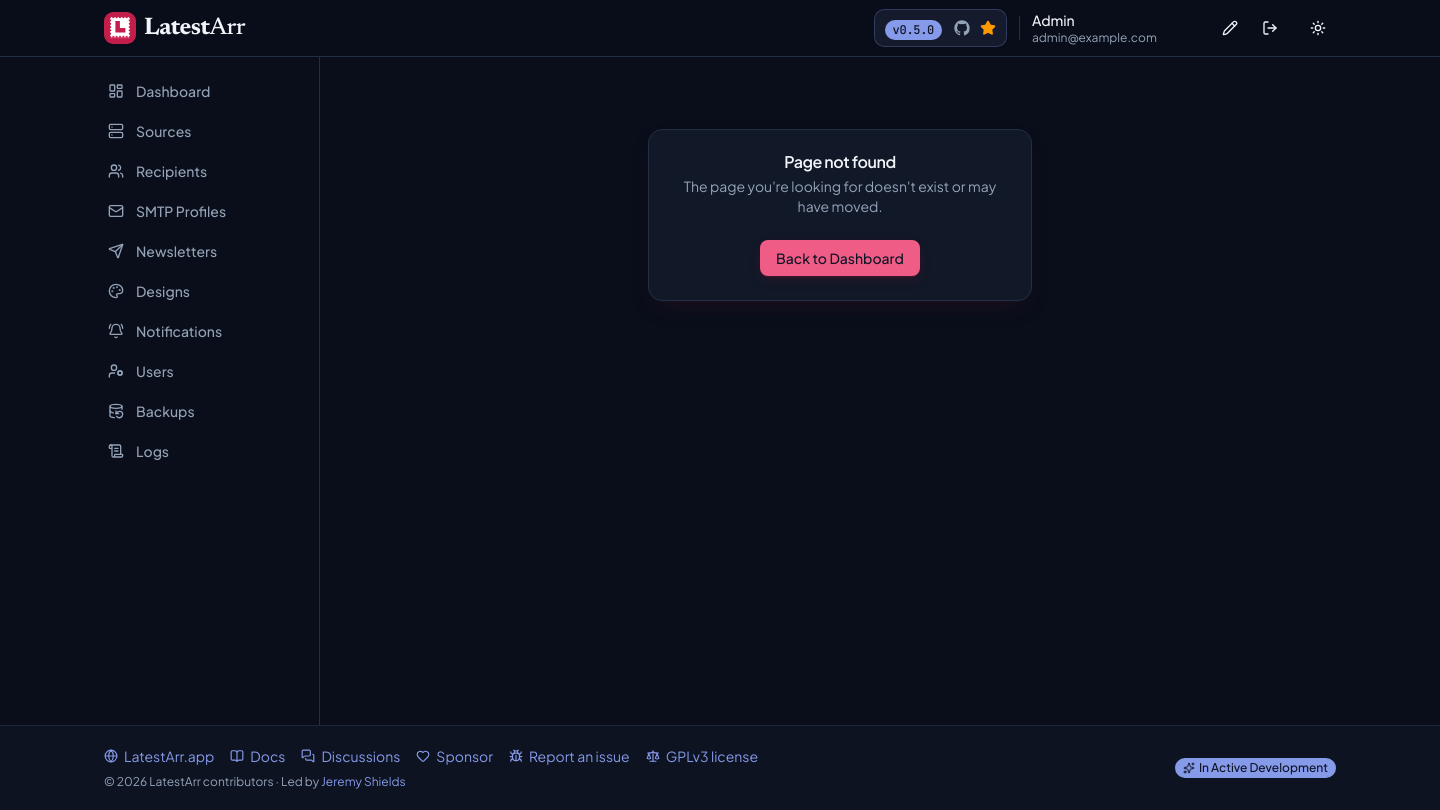
Test: App routing › navigates back to the Dashboard from the not-found page
Check: the heading "Page not found" is shown, box [784, 154, 896, 170]
Click the link "Back to Dashboard" at (840, 258), box [760, 240, 920, 276]
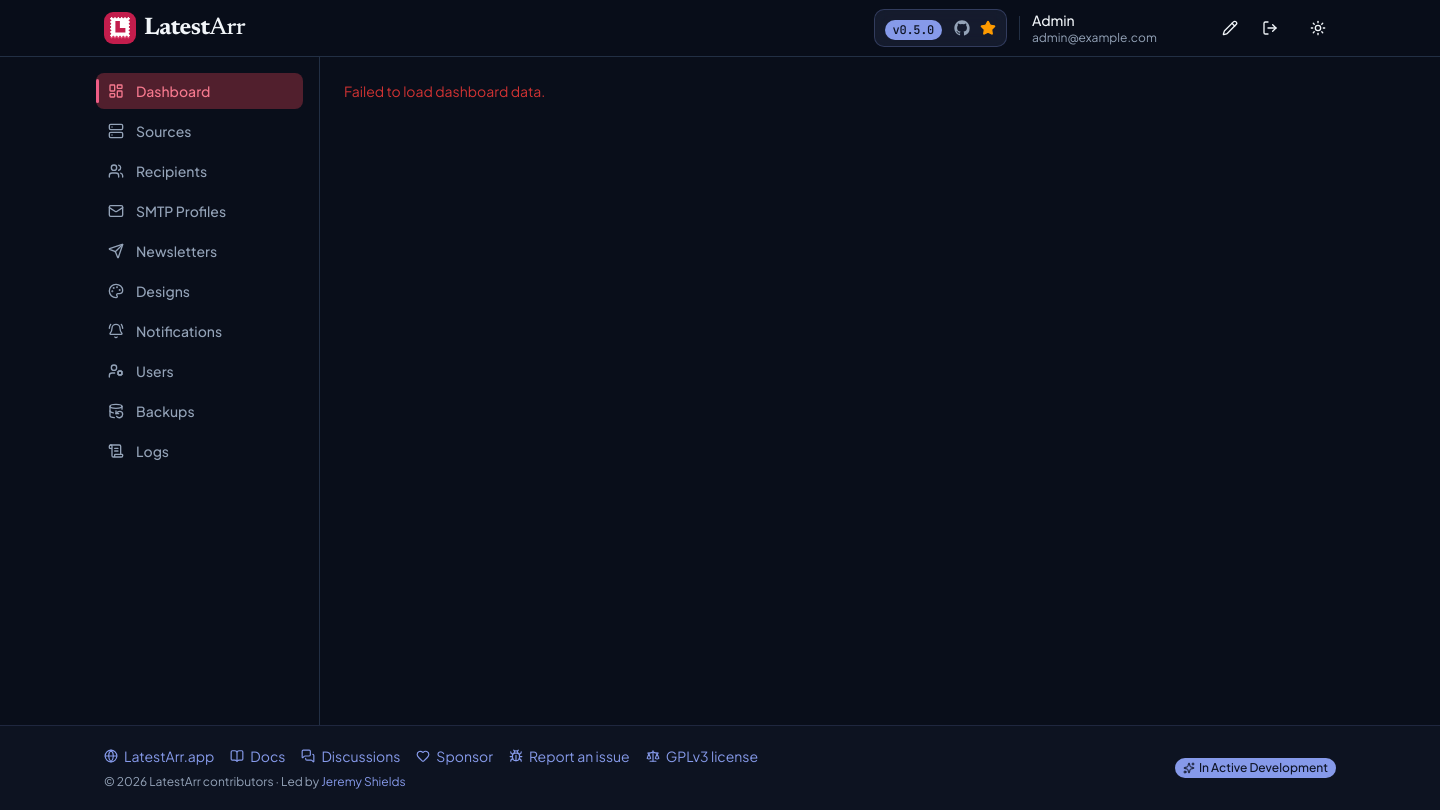
Check: the heading "Page not found" is gone
